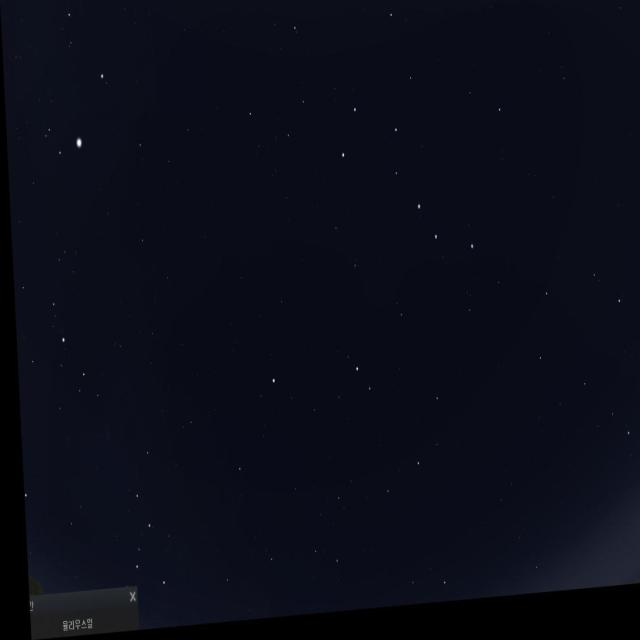cassiopeia: (104, 435, 182, 619)
ursa_major: (332, 94, 477, 298)
